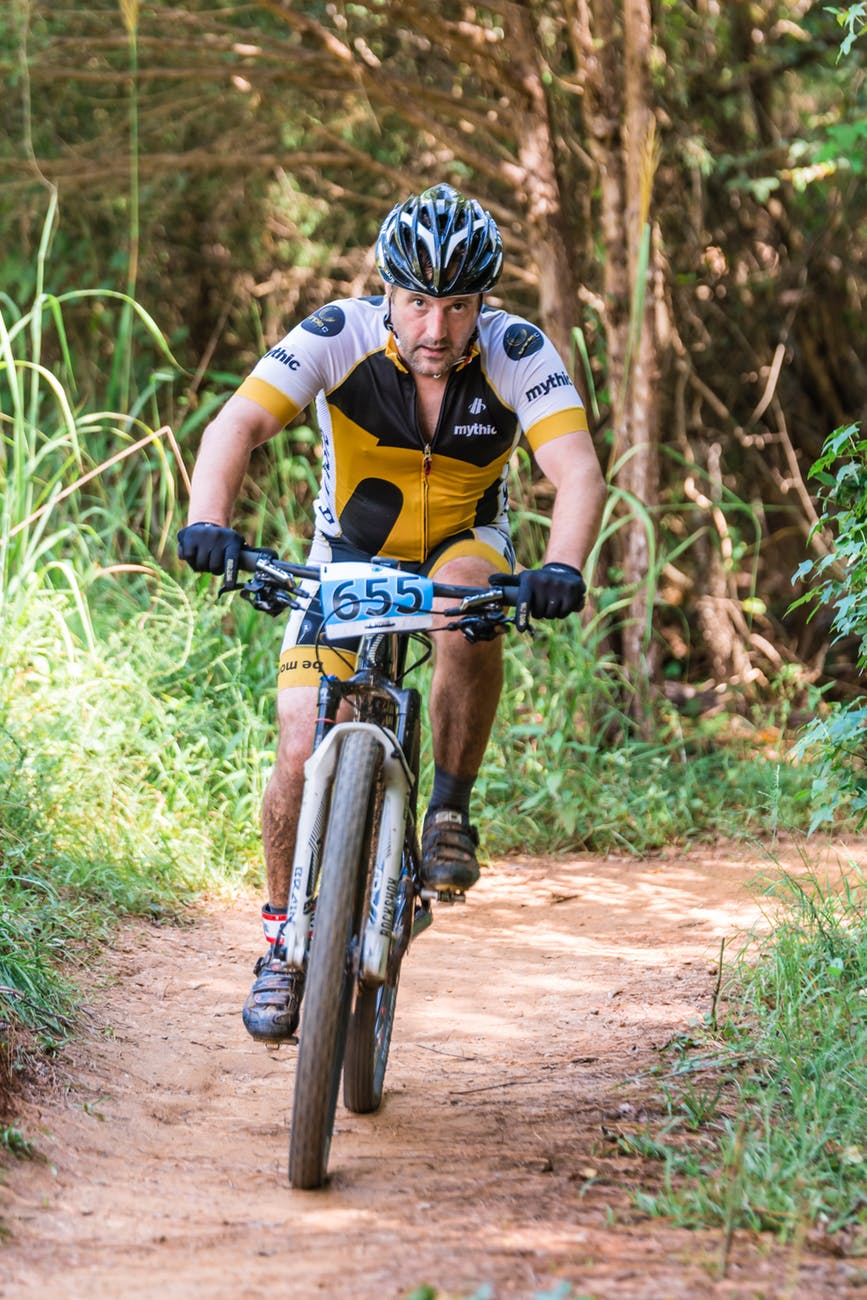helmet: (364, 189, 508, 287)
